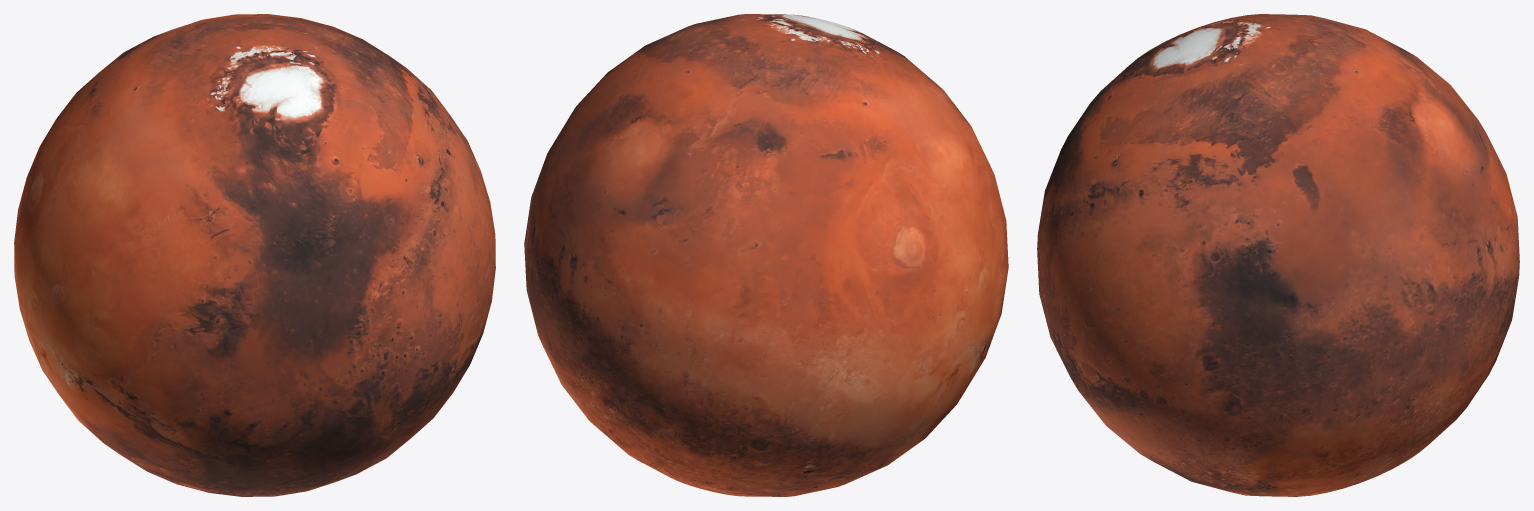
Rendered from Mars.obj.
3 views of the same model, side by side, from view 1: azimuth 30°, elevation 25°; view 2: azimuth 150°, elevation 25°; view 3: azimuth 270°, elevation 25° (orthographic).
Visible parts, largest first — view 1: Mars.002; view 2: Mars.002; view 3: Mars.002.
Boxes of the visible parts, left/top/right/bottom form: Mars.002: left=14, top=14, right=495, bottom=496; Mars.002: left=524, top=14, right=1008, bottom=496; Mars.002: left=1037, top=14, right=1519, bottom=496.
Bounding box in the file's own units: 1.81 × 1.83 × 1.82.
